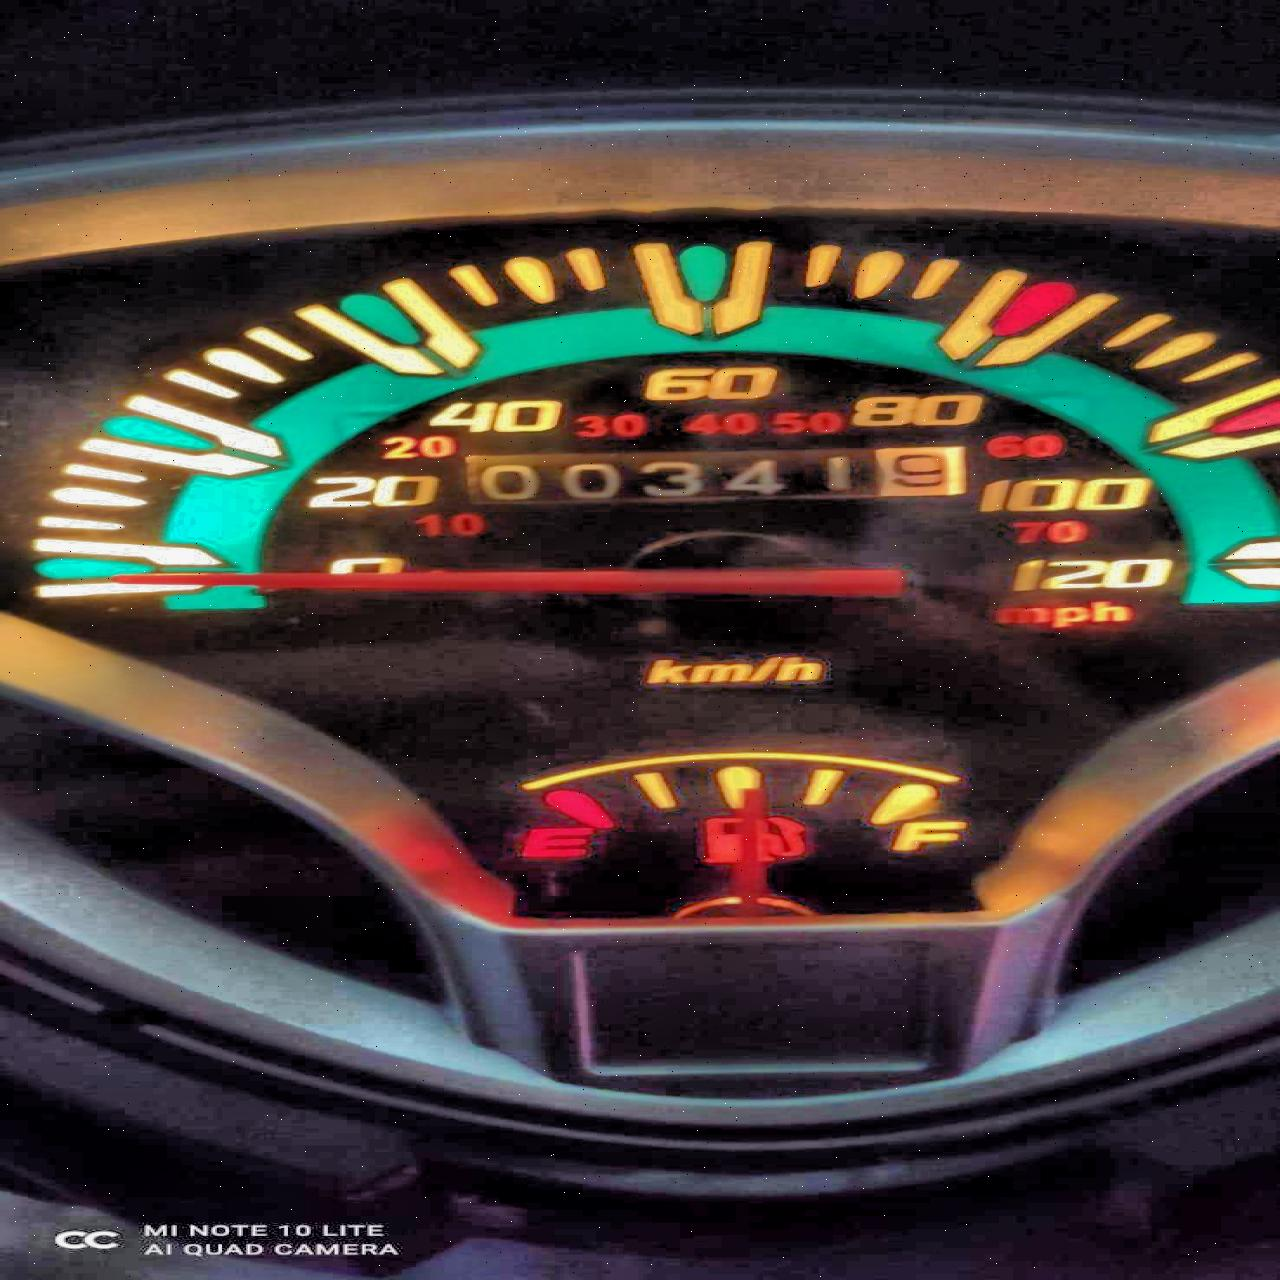0: (478, 461, 539, 502), (560, 459, 621, 498)
1: (821, 450, 860, 495)
3: (635, 458, 704, 499)
4: (723, 454, 789, 497)
9: (886, 450, 955, 492)
odometer: (465, 444, 968, 503)
